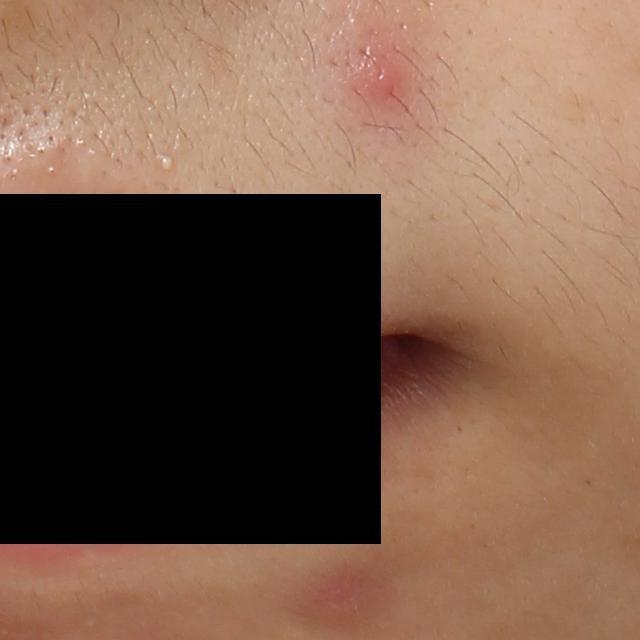papule: (336, 34, 422, 120), (317, 583, 366, 630)
pustule: (155, 153, 176, 174)
